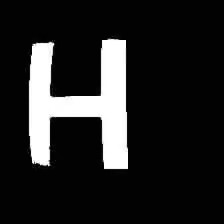LTR_H: (16, 25, 134, 179)
